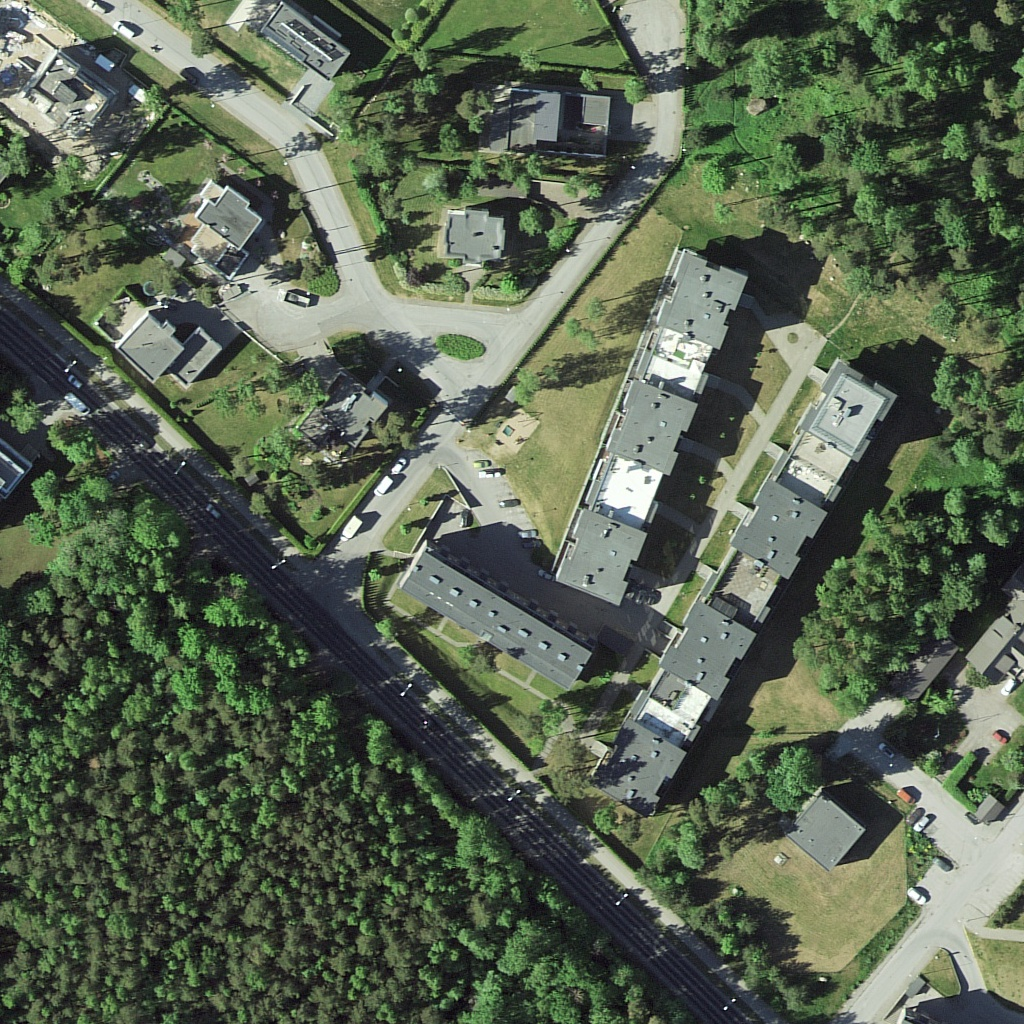building: (392, 538, 598, 690), (795, 356, 900, 464), (649, 597, 754, 704), (292, 370, 397, 475), (650, 249, 751, 350), (592, 713, 690, 817), (551, 504, 650, 605), (600, 378, 701, 477), (729, 476, 824, 577), (263, 3, 355, 92), (501, 90, 612, 159), (35, 49, 117, 135), (117, 305, 192, 391), (797, 798, 868, 871), (434, 202, 508, 271), (192, 190, 260, 255)
